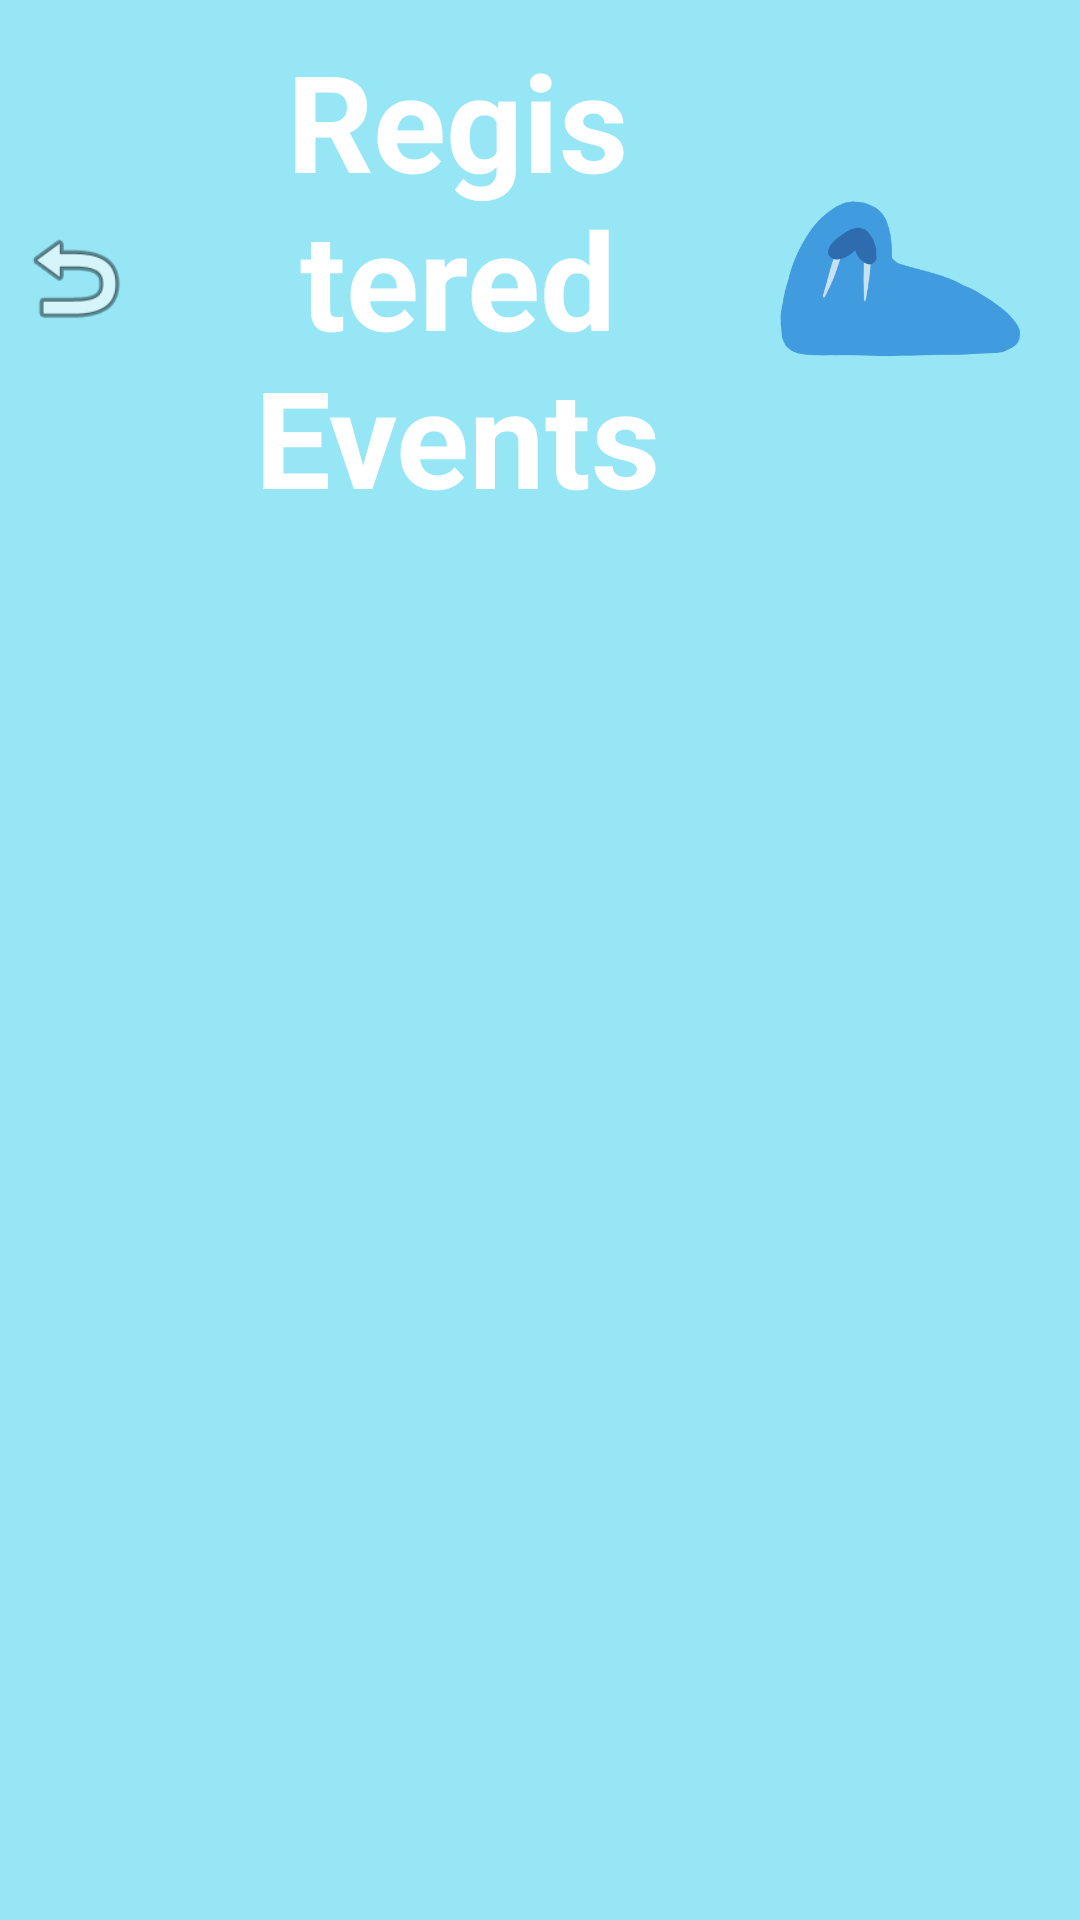

Point at icon controls on the screen. Image size 1080×1920, points as [x,y].
revert: [76,279]
